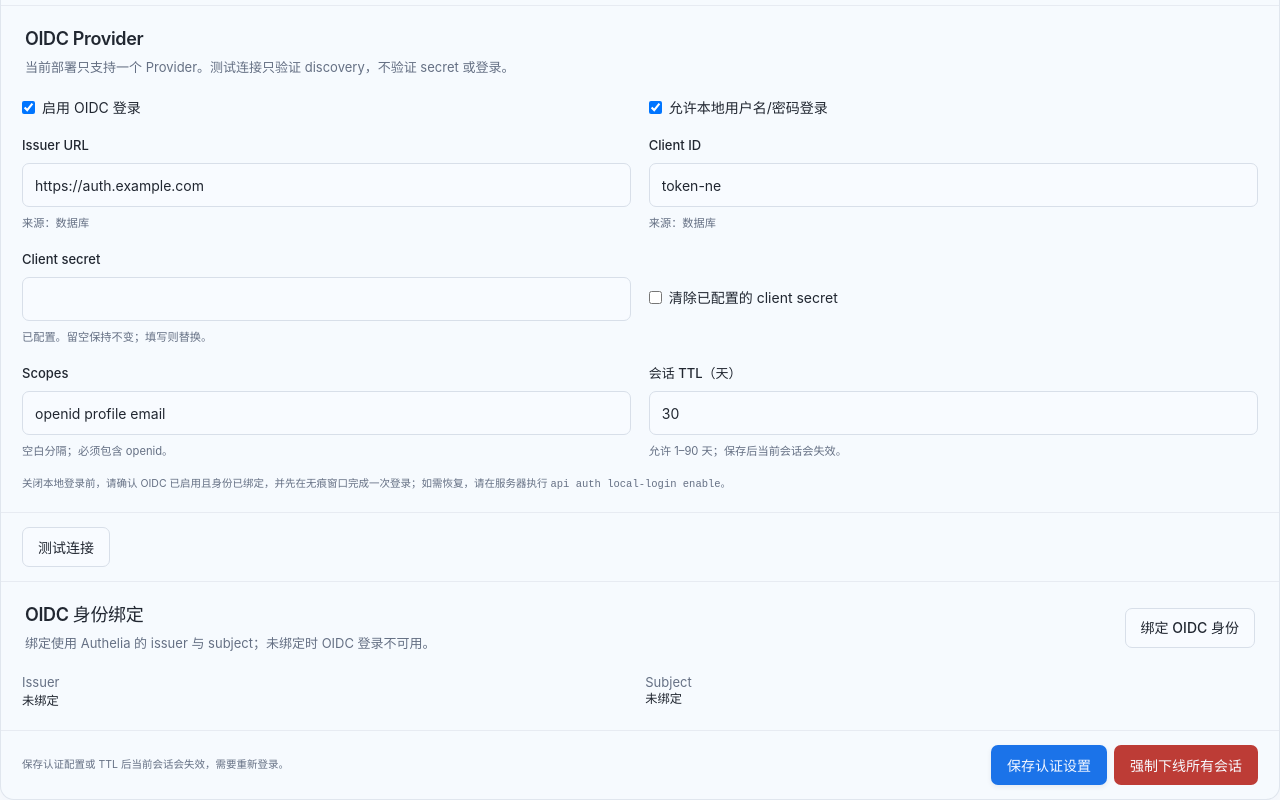
Test case: system settings › refetches settings after a revision conflict
(page scrolled)
Expected: the field showing "https://auth.example.com" is shown, left=22, top=164, right=631, bottom=208
Click the button "保存认证设置" at [1049, 765], box left=991, top=745, right=1107, bottom=785
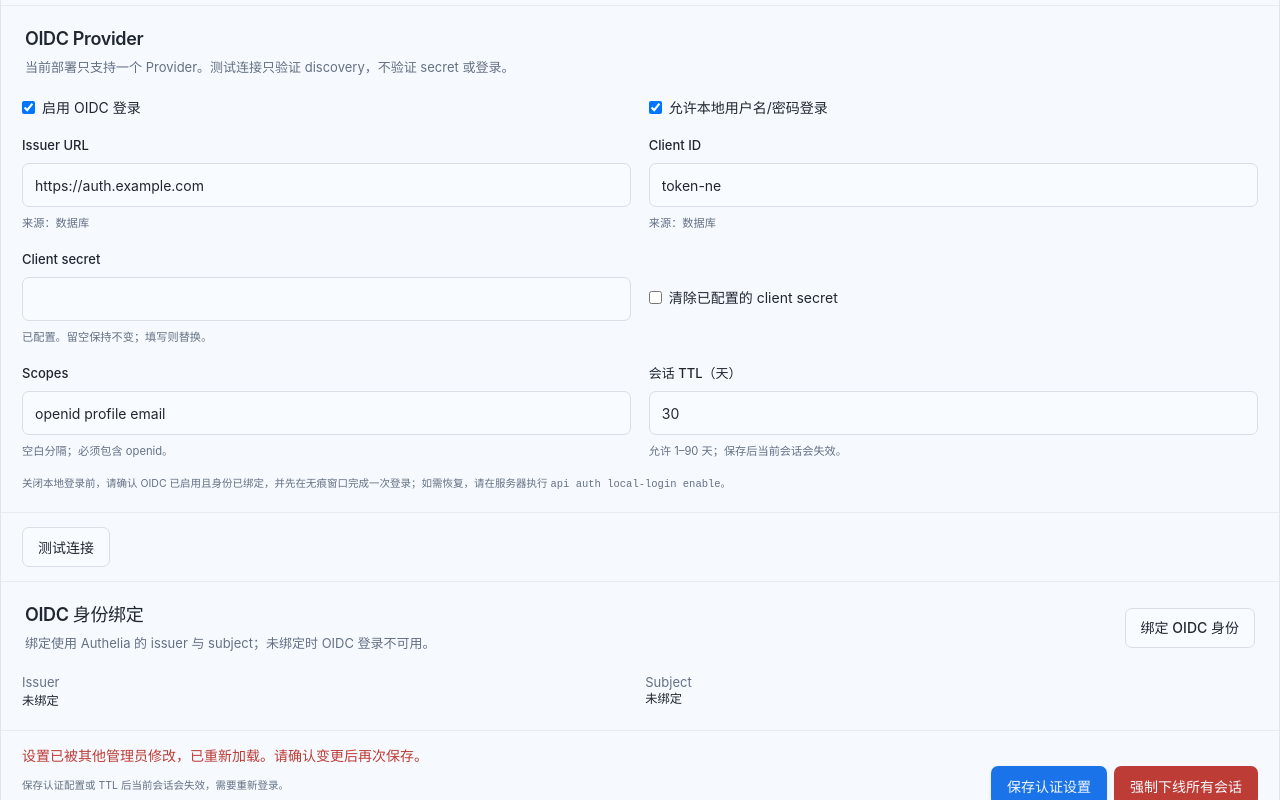
Expected: the text "设置已被其他管理员修改，已重新加载。请确认变更后再次保存。" is shown, left=22, top=747, right=428, bottom=764
